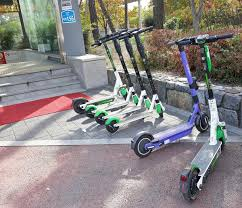kick_handler: (179, 32, 233, 42)
kick_neck: (200, 48, 220, 124), (179, 51, 199, 107)
kick_wheel: (181, 168, 201, 201), (132, 133, 153, 157), (196, 114, 209, 132), (72, 98, 87, 113), (105, 119, 118, 133), (156, 104, 166, 117)
